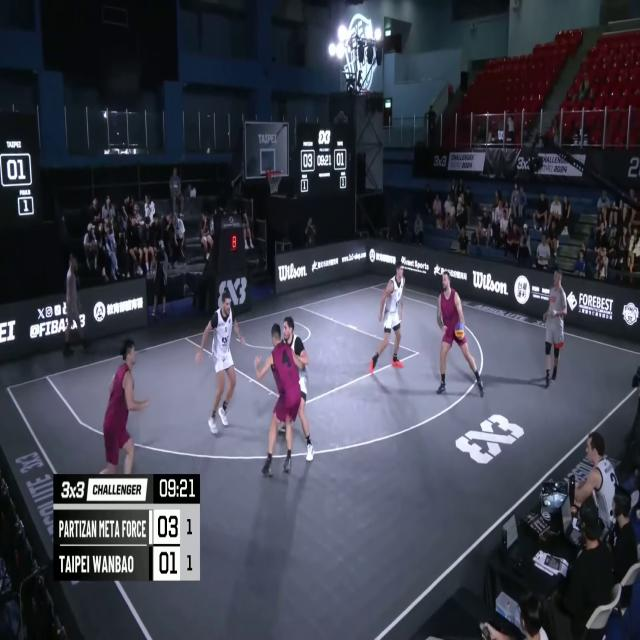ball: (453, 317, 467, 343)
hoop: (266, 165, 282, 196)
player: (254, 322, 308, 474), (194, 289, 244, 434), (99, 341, 150, 476), (436, 269, 488, 401), (273, 311, 317, 461), (370, 262, 402, 376)
